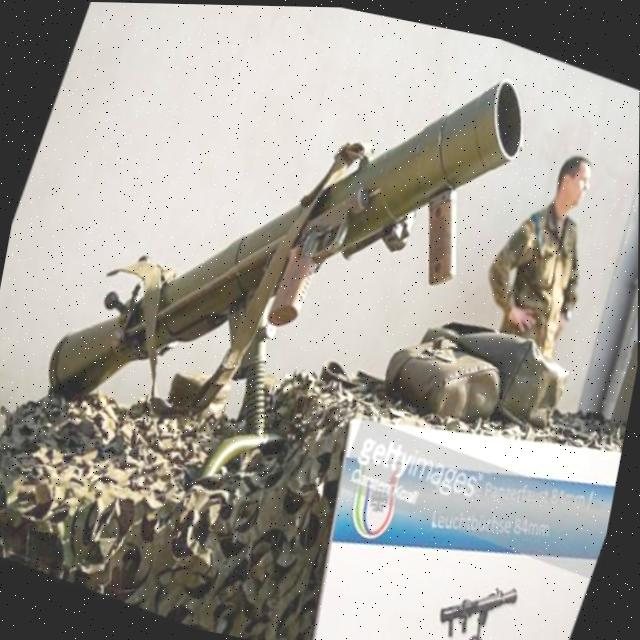rocket: (22, 0, 544, 530)
